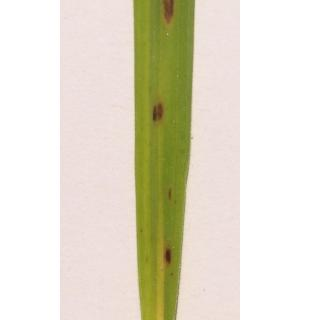bercak-Cokelat: (156, 0, 193, 24), (148, 100, 168, 128), (162, 240, 179, 268), (162, 180, 177, 204)
